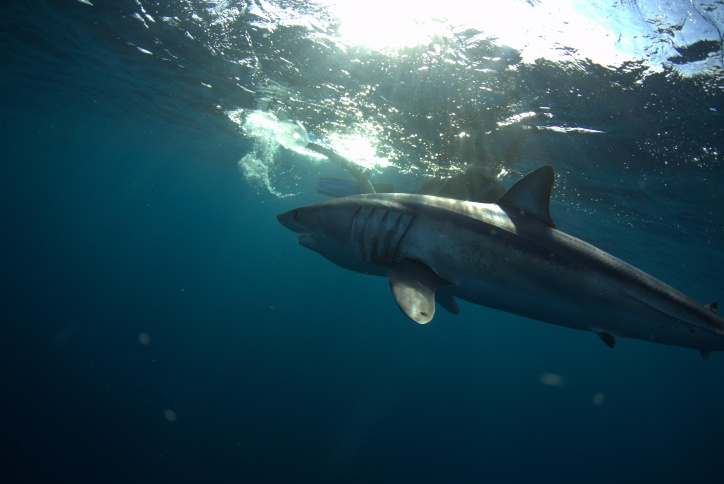Mako: (273, 156, 724, 367)
